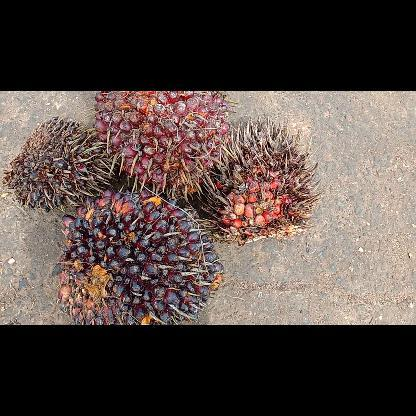Kurang masak: (53, 186, 228, 324)
TBS abnormal: (4, 115, 118, 213)
TBS masak: (90, 90, 233, 200)
Terlalu masak: (197, 116, 322, 246)
